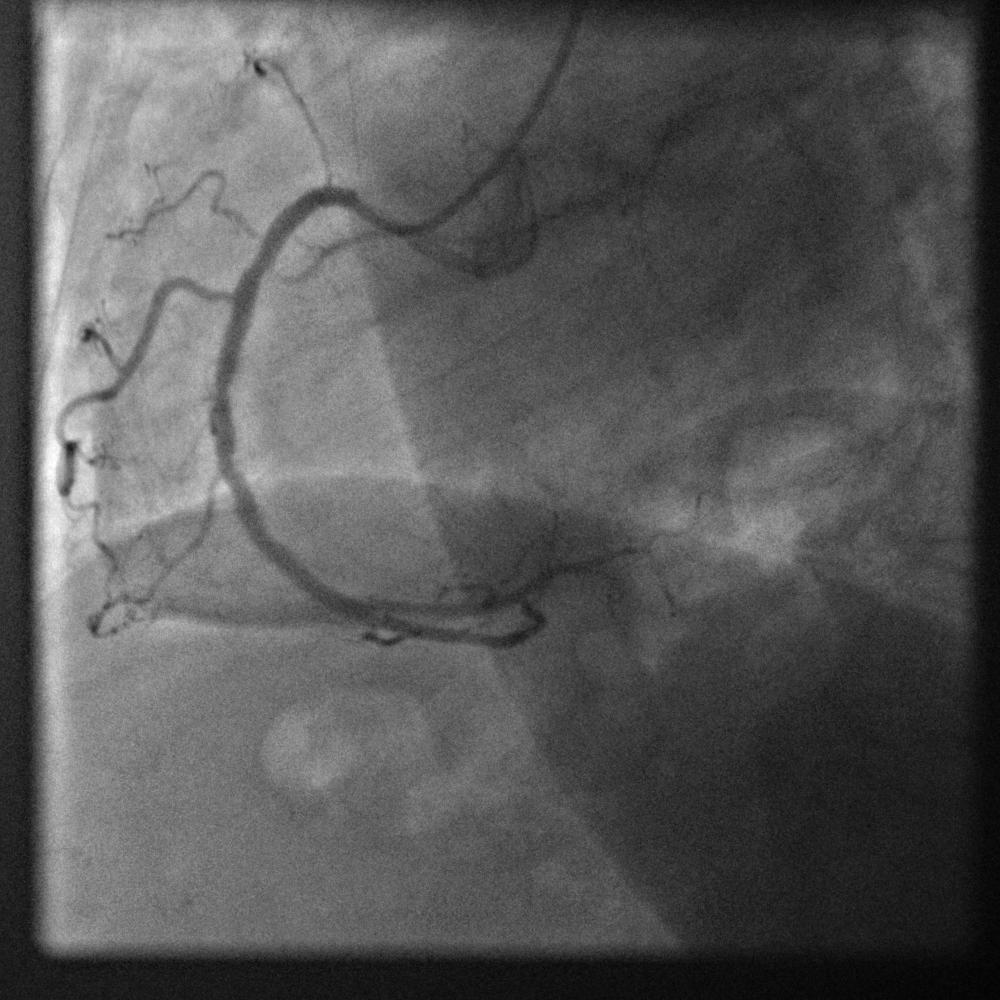Stenosis: (238, 238, 277, 283)
